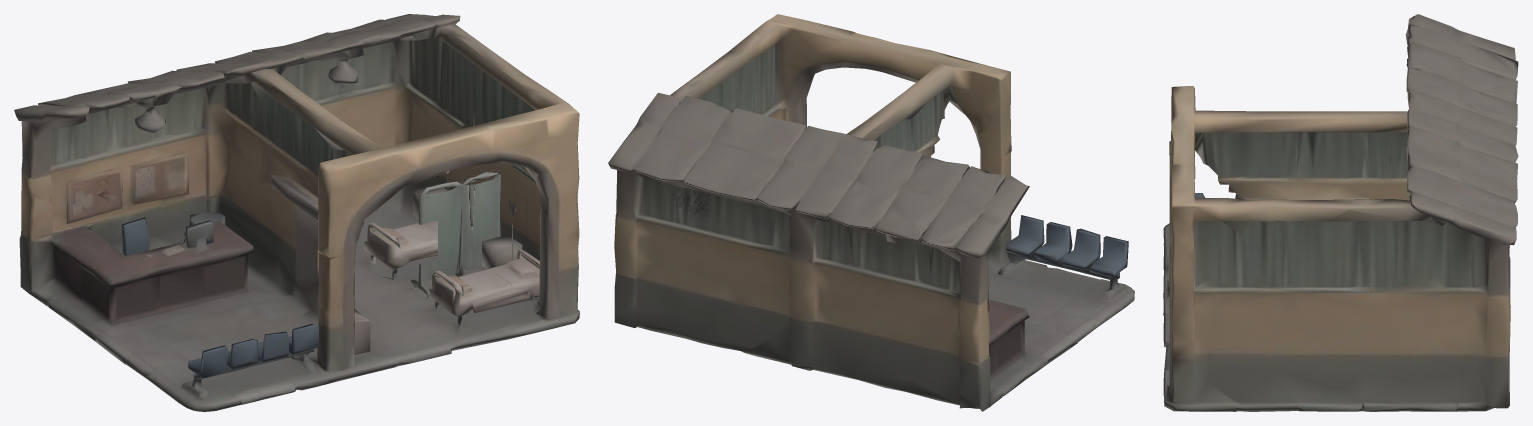
The model's file is hospital_interior.glb.
3 renders of one model, left to right at view 1: azimuth 30°, elevation 25°; view 2: azimuth 150°, elevation 25°; view 3: azimuth 270°, elevation 25°, orthographic. The views are drawn at different scales.
Parts seen in each view (by area): view 1: tripo_node_684bac61-d624-4dc6-8441-b6481969aab6; view 2: tripo_node_684bac61-d624-4dc6-8441-b6481969aab6; view 3: tripo_node_684bac61-d624-4dc6-8441-b6481969aab6.
Part boxes in pixels (bbox=[...]): tripo_node_684bac61-d624-4dc6-8441-b6481969aab6: bbox=[14, 14, 579, 411]; tripo_node_684bac61-d624-4dc6-8441-b6481969aab6: bbox=[608, 14, 1134, 411]; tripo_node_684bac61-d624-4dc6-8441-b6481969aab6: bbox=[1163, 14, 1518, 411].
Bounding box in the file's own units: 1 × 0.5216 × 0.7869.
1 material, 1 textured.
